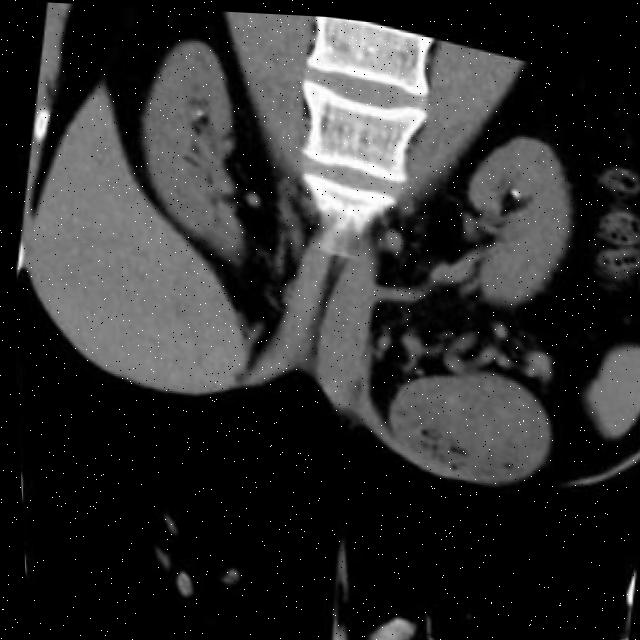Tas_Var: (504, 177, 519, 197), (185, 105, 205, 119)
